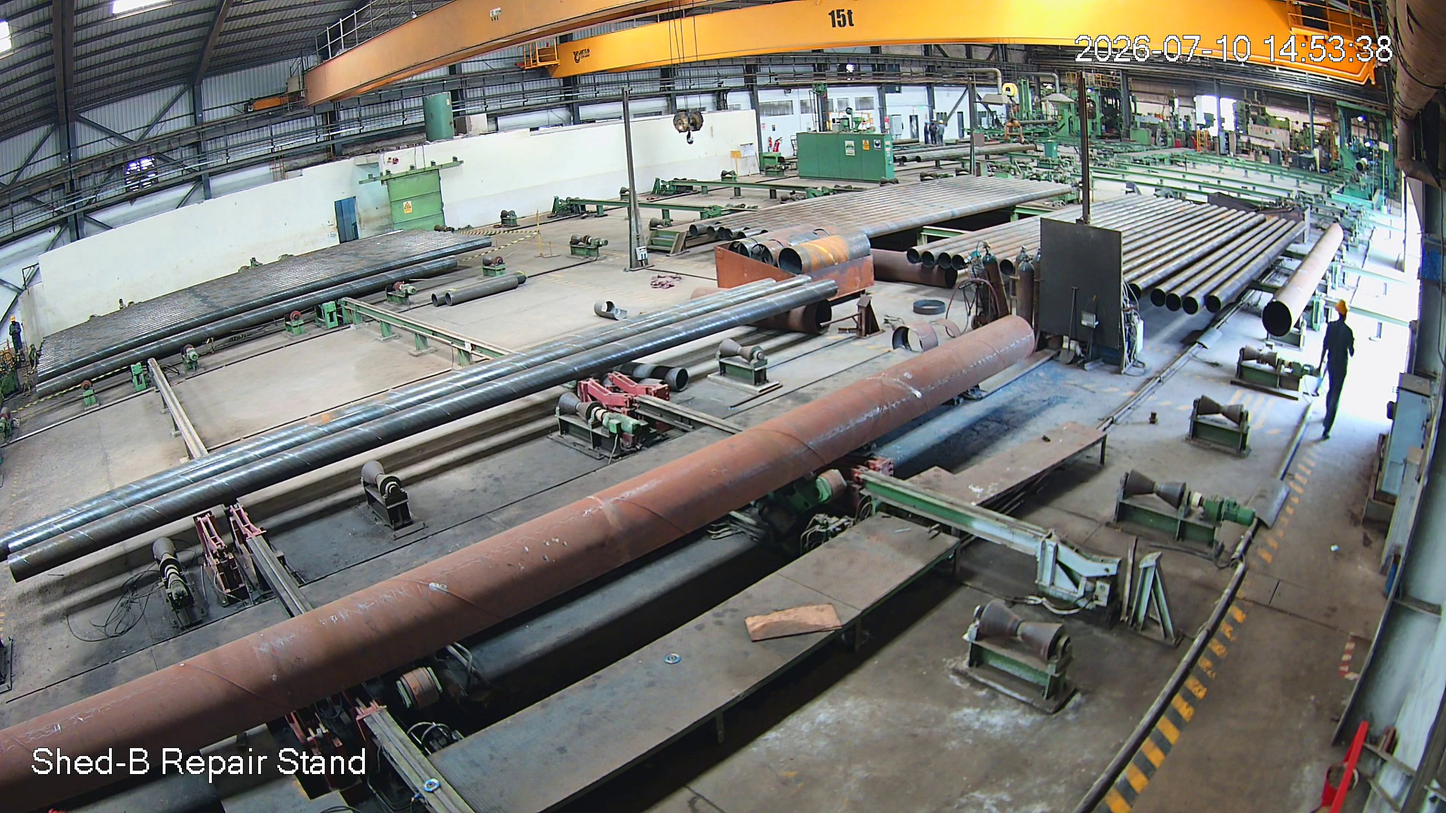Helmet: (1324, 293, 1357, 332)
Person: (1316, 296, 1364, 454)
